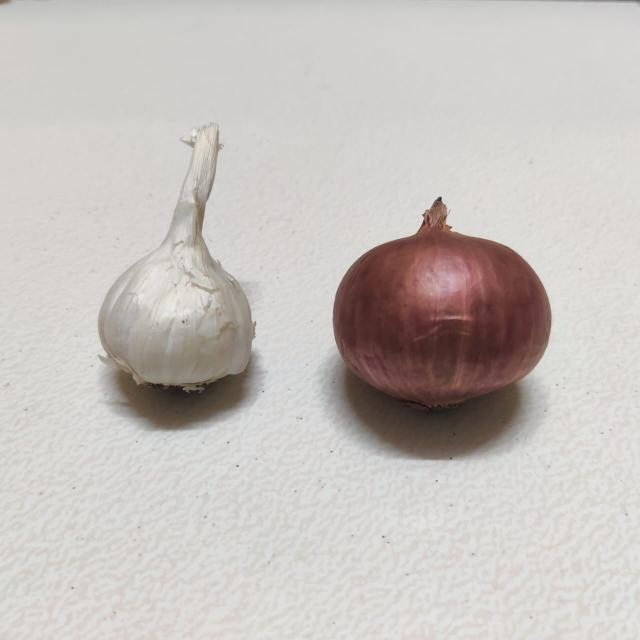Organik: (319, 193, 567, 430), (86, 109, 266, 414)
